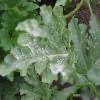Squash Powdery mildew leaf: (0, 3, 79, 84)
